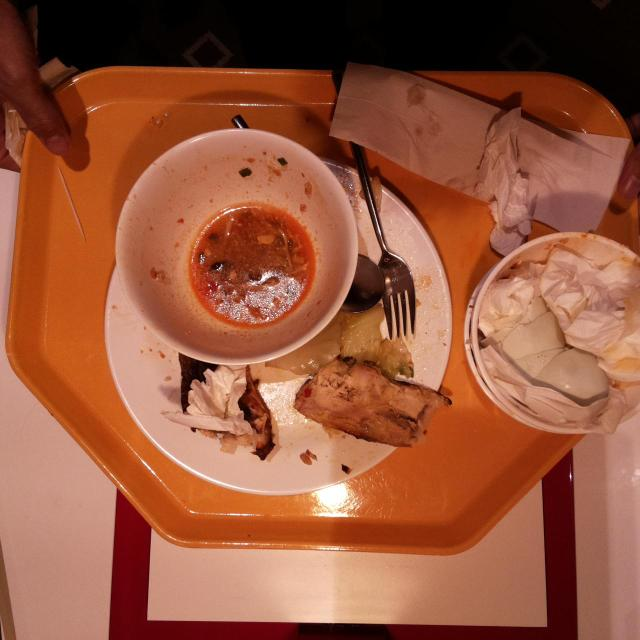Bone: (238, 384, 276, 462)
Egg-shell: (478, 295, 612, 405)
Meat: (300, 363, 452, 445)
